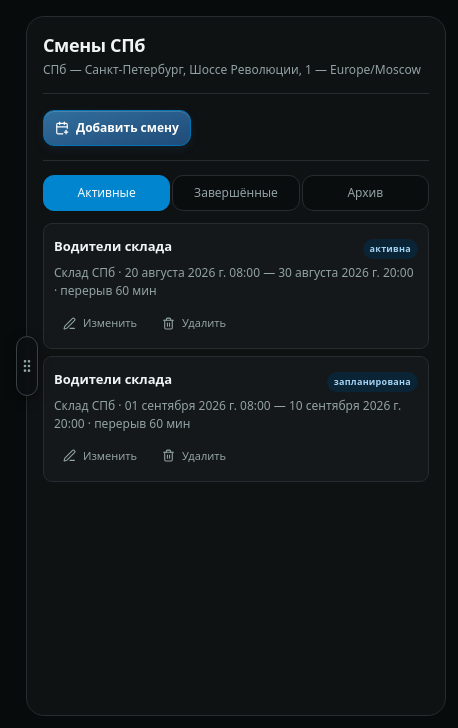
Test: application shell › groups shifts into active, completed, and archived tabs
Expected: the text "активна" is shown, [363,239,418,259]
Expected: the text "запланирована" is shown, [327,372,418,392]
Step 1. Click the button "Завершённые" → (236, 193), box [172,175,300,211]
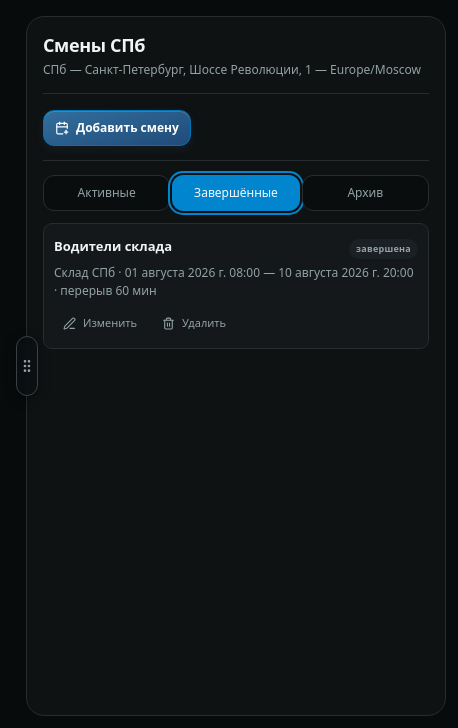
Expected: the text "завершена" is shown, [349,239,418,259]
Step 2. Click the button "Архив" → (365, 193), box [302,175,429,211]
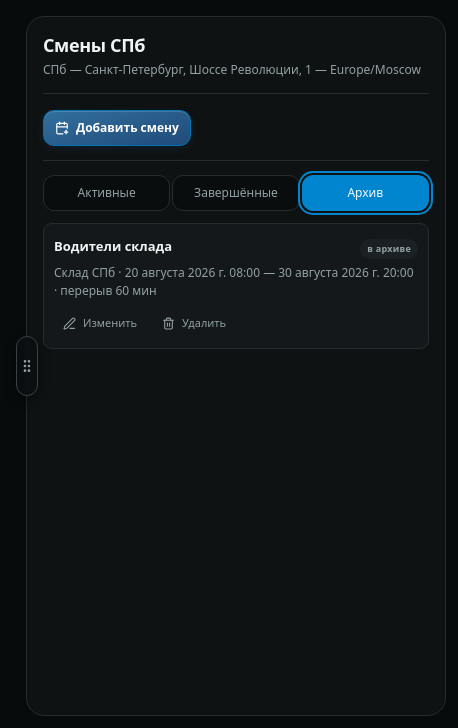
Expected: the text "в архиве" is shown, [360,239,418,259]
